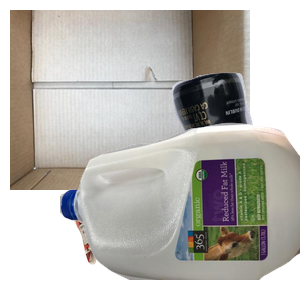cardboard: (10, 10, 250, 190)
glass: (106, 70, 300, 250)
plastic: (60, 120, 300, 300)
trash: (70, 162, 257, 300)
